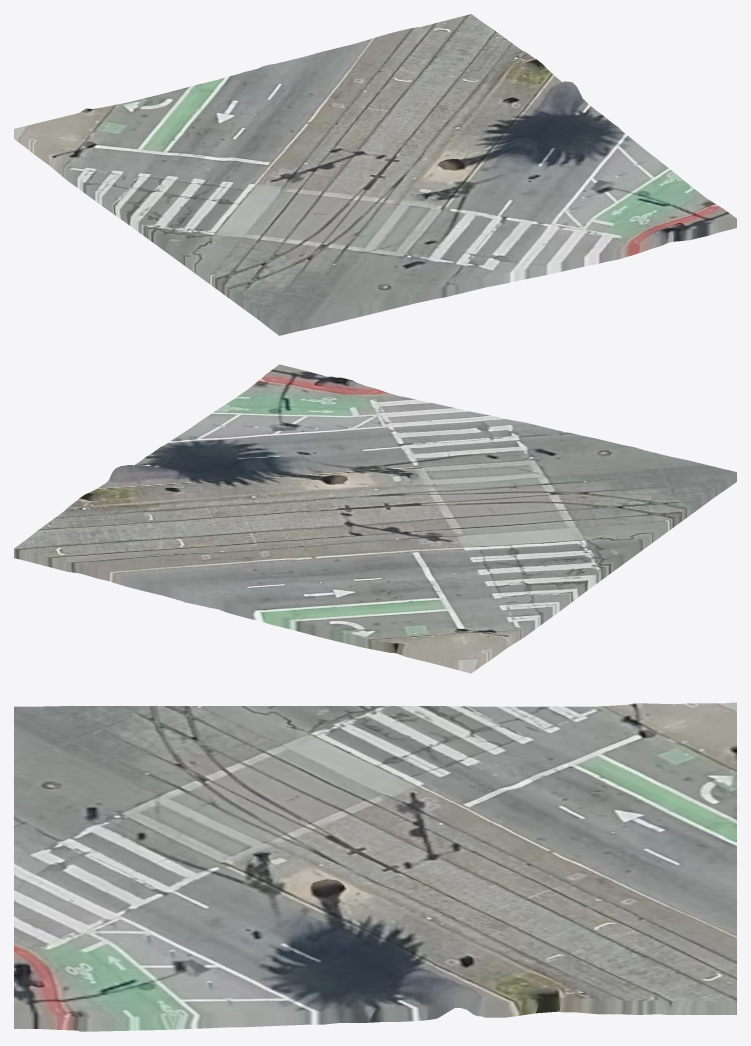
The model's file is z20-167793-405226-h0-yup-uvflip-v3-world.glb.
3 renders of one model, top to bottom at view 1: azimuth 30°, elevation 25°; view 2: azimuth 150°, elevation 25°; view 3: azimuth 270°, elevation 25°, orthographic. The views are drawn at different scales.
Bounding box in the file's own units: 30.16 × 1.84 × 30.32.
Materials: 1 (1 with a texture image).
